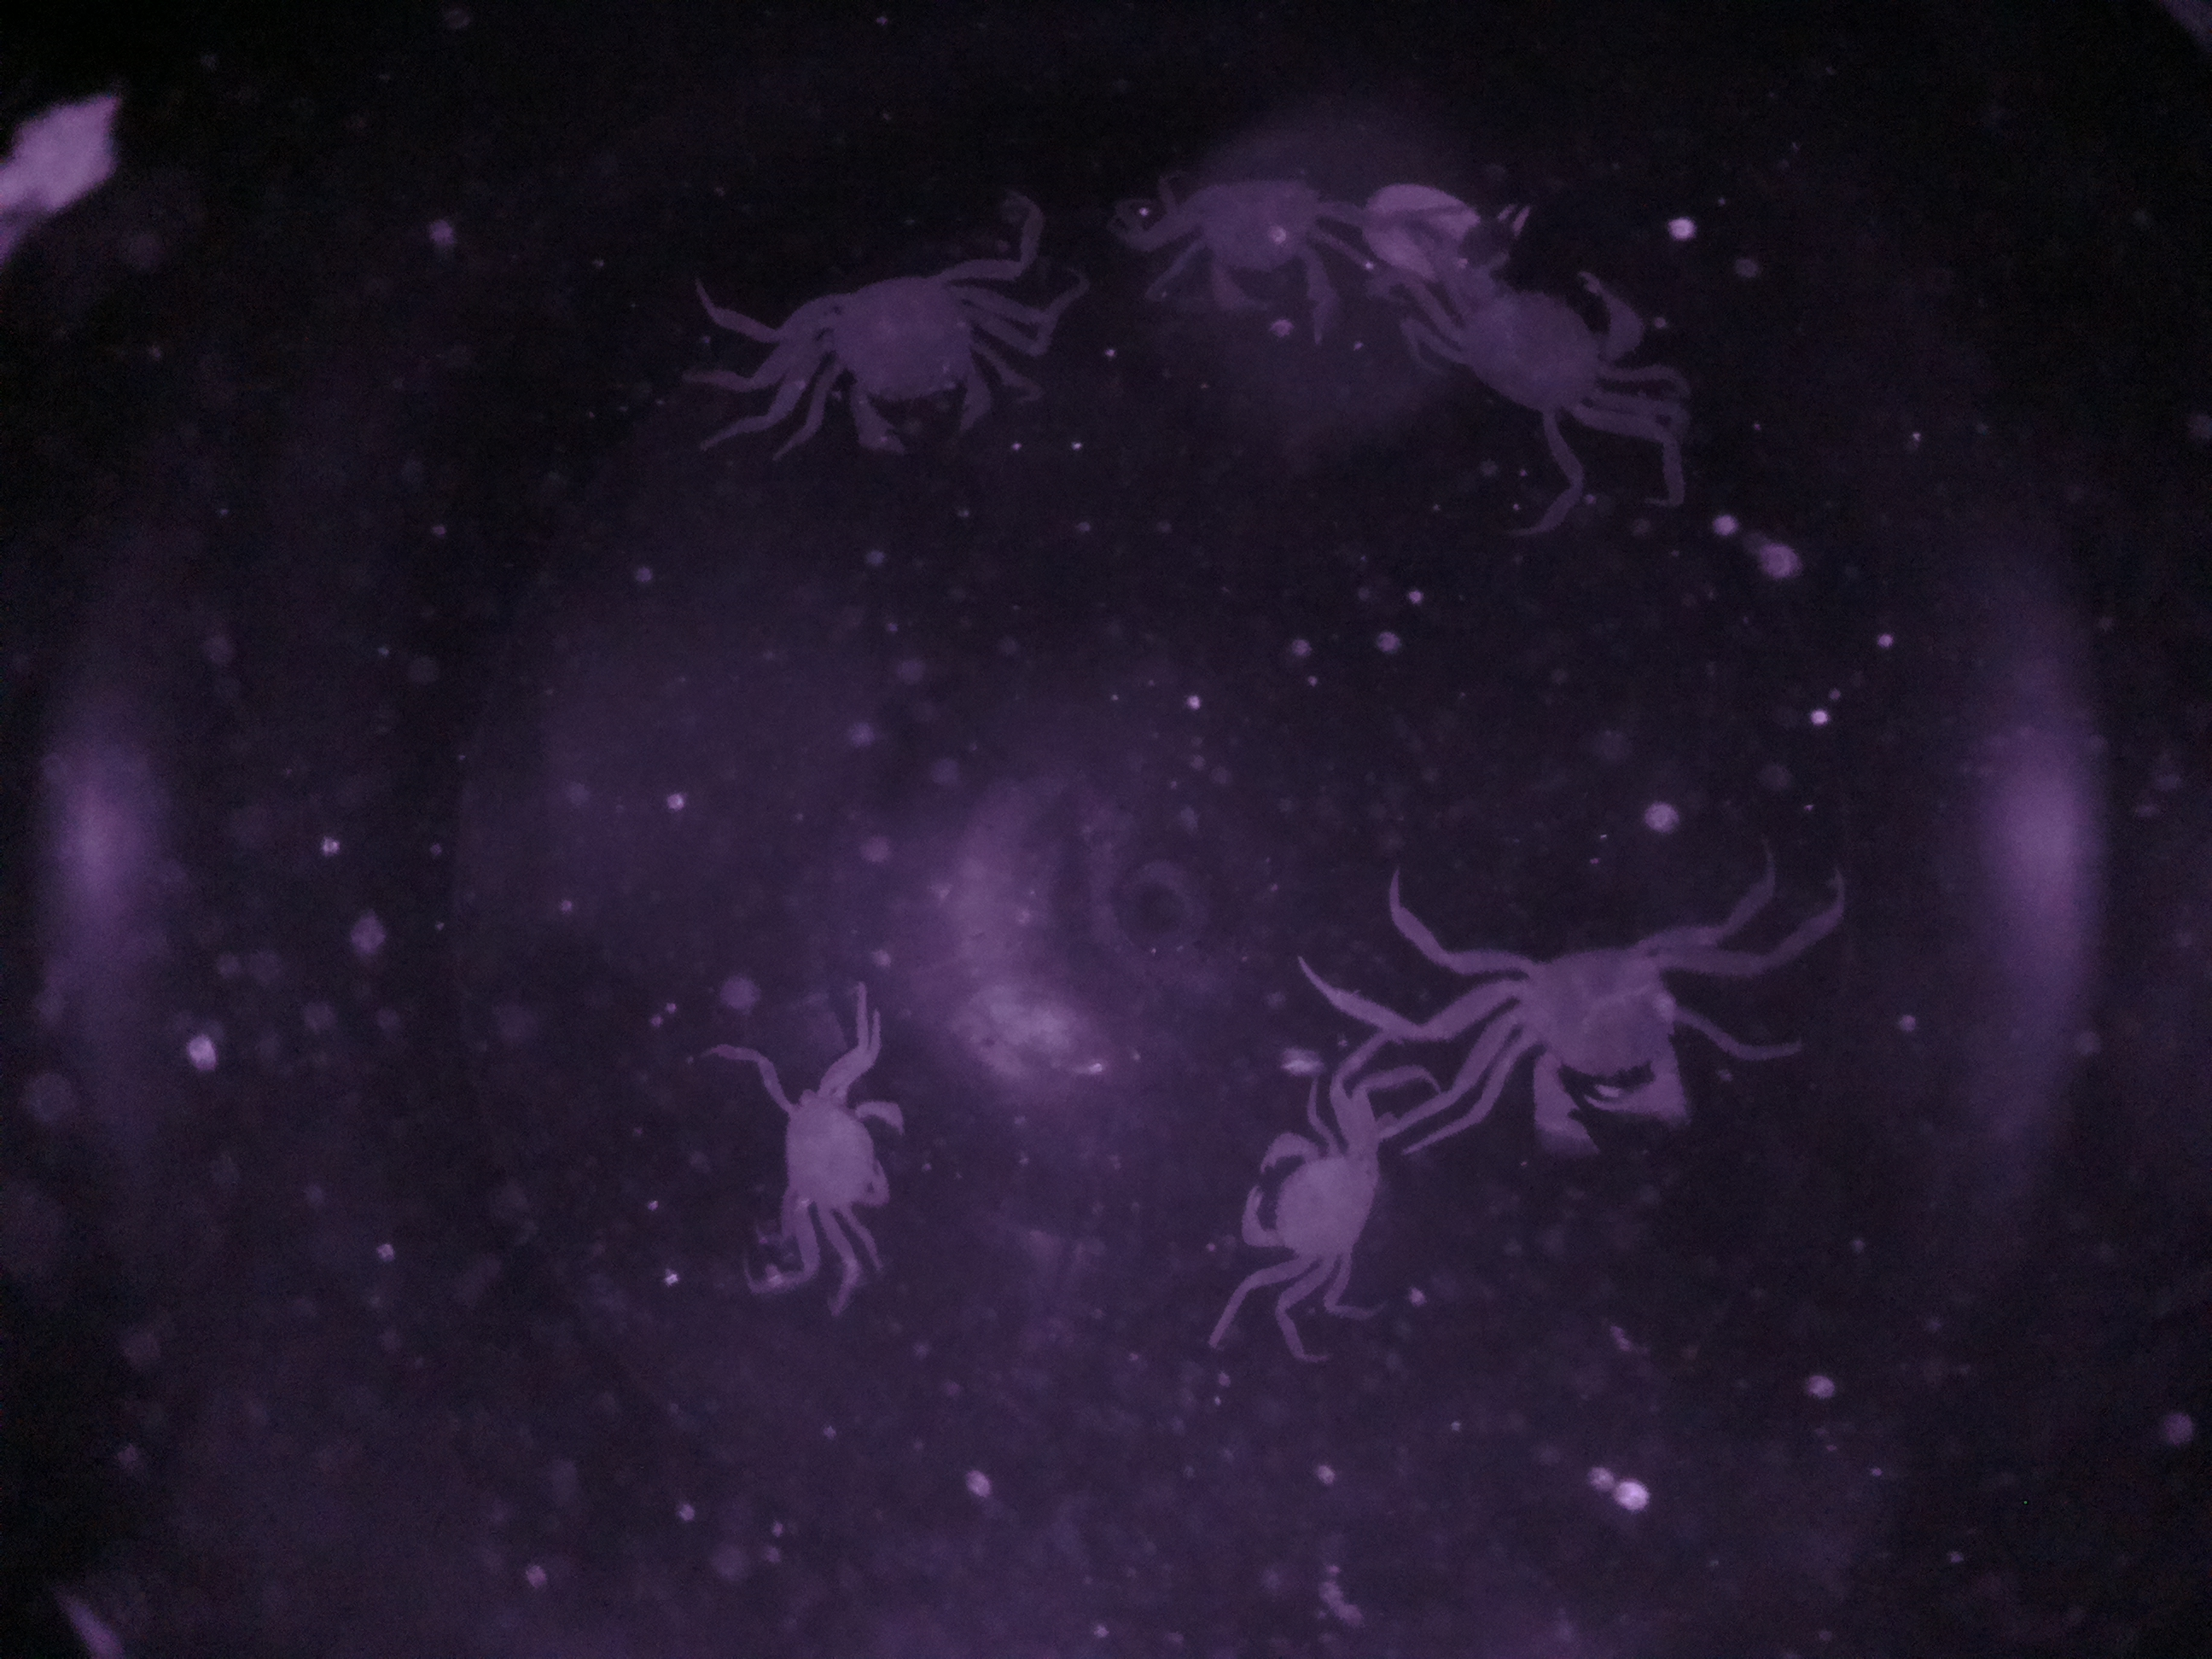Crab: (1414, 183, 1735, 462), (1458, 894, 1752, 1182), (751, 242, 1082, 477), (745, 1037, 934, 1262), (1221, 1096, 1413, 1288)
